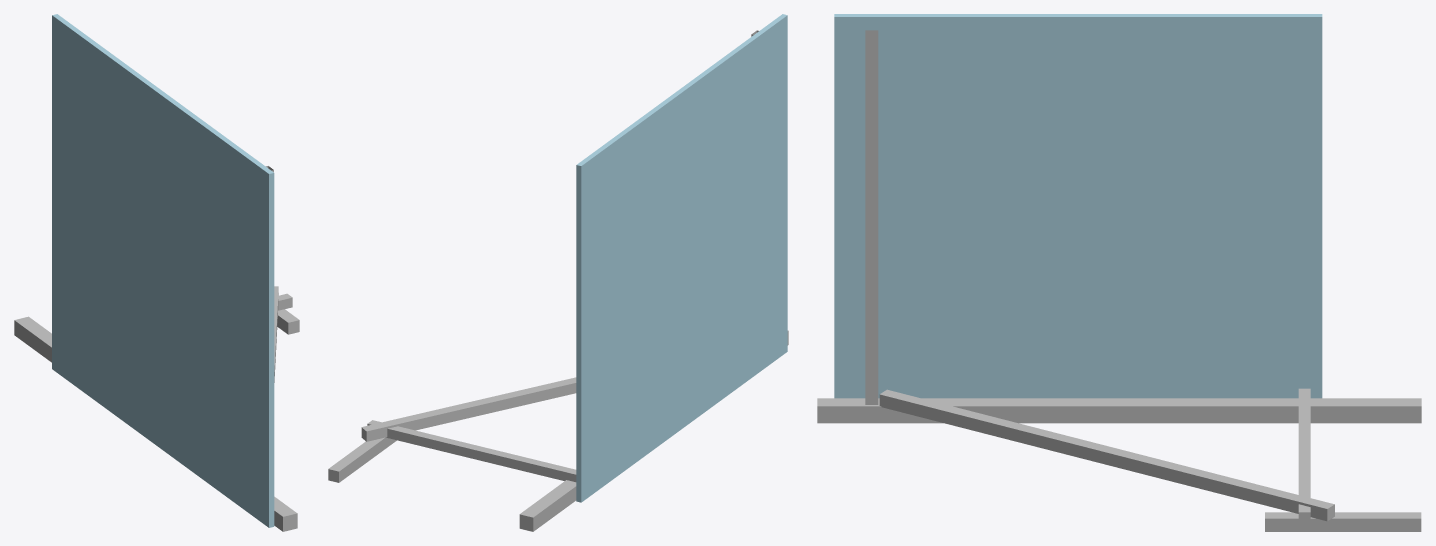
The model's file is tmp_fence_h2000_w1800.glb.
The picture shows the model from 3 angles, left to right: view 1: azimuth 30°, elevation 25°; view 2: azimuth 150°, elevation 25°; view 3: azimuth 270°, elevation 25°; orthographic projection. The views are drawn at different scales.
Parts seen in each view (by area): view 1: tmp_fence; view 2: tmp_fence; view 3: tmp_fence.
Part boxes in pixels (x1,y1,x2,y2): tmp_fence: [14, 14, 299, 531]; tmp_fence: [328, 14, 788, 531]; tmp_fence: [817, 14, 1421, 531].
Size of the model in its own units: 1.22 by 1.8 by 2.48.
